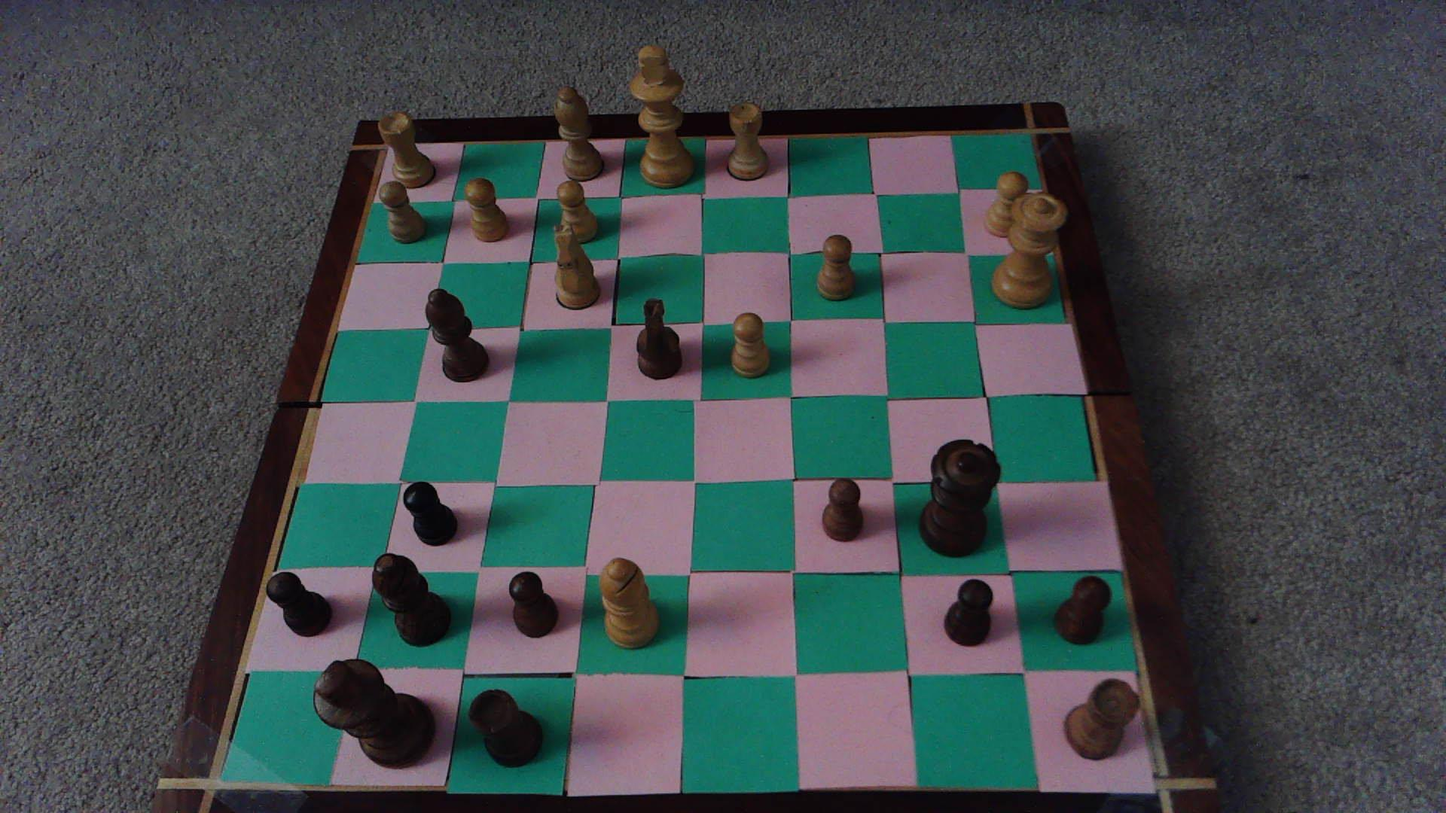dark_piece: (314, 659, 434, 767), (921, 439, 1000, 556), (374, 553, 450, 645), (1064, 679, 1138, 759), (426, 288, 488, 381), (468, 689, 541, 766), (267, 572, 331, 636), (1055, 576, 1110, 644), (637, 299, 681, 378), (403, 482, 456, 545), (944, 579, 993, 645), (509, 571, 557, 637), (822, 479, 862, 540)
white_piece: (631, 44, 695, 189), (993, 193, 1066, 306), (599, 558, 657, 647), (552, 86, 601, 181), (377, 110, 434, 188), (552, 223, 599, 309), (728, 102, 770, 181), (984, 171, 1030, 238), (377, 181, 426, 243), (463, 176, 509, 242), (556, 181, 598, 242), (731, 312, 769, 376), (817, 234, 855, 298)
